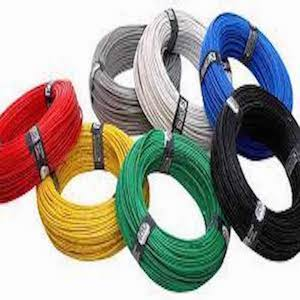combustible: (136, 16, 296, 131), (121, 138, 229, 270), (18, 93, 123, 209), (217, 108, 297, 257)
